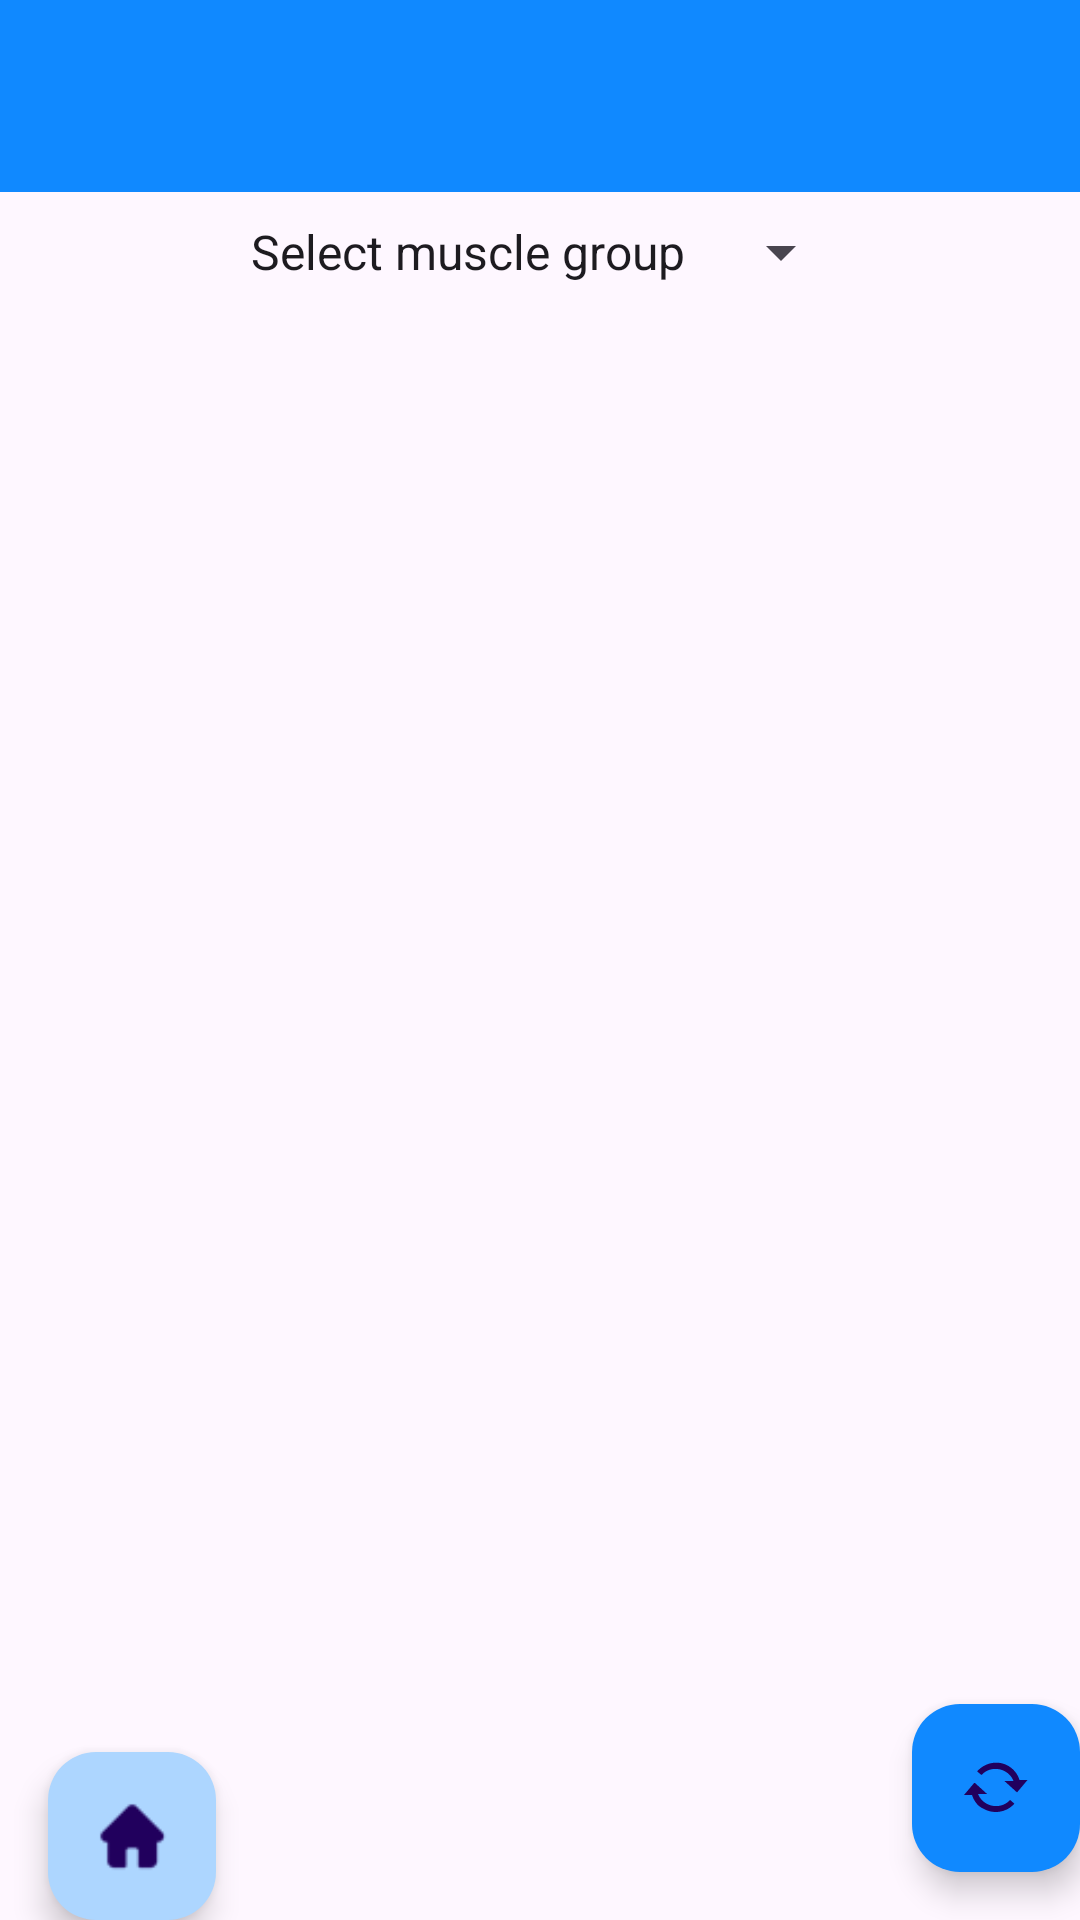

Icons on this 1080 × 1920 Android screen, each with the point to tap as (x=x, y=y):
sync noanim: (x=996, y=1788)
